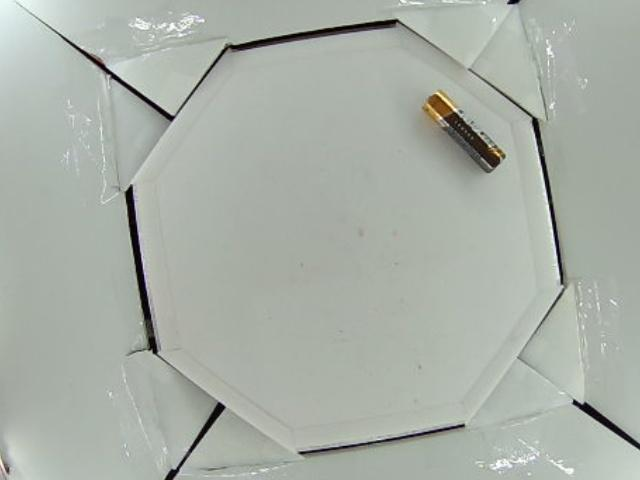Battery: (420, 87, 507, 172)
